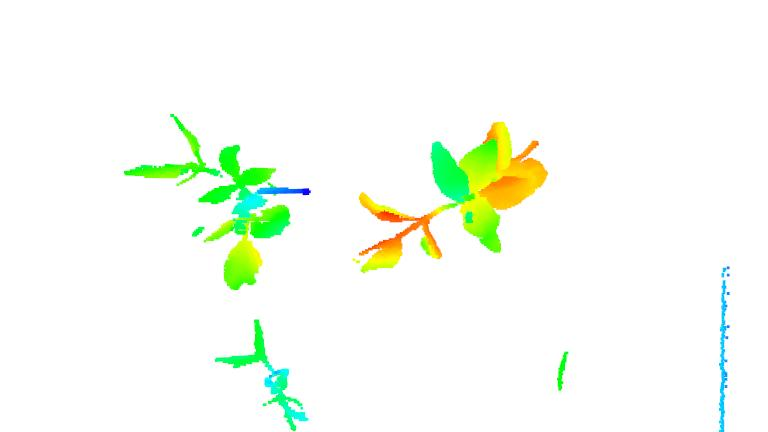mungbean: (114, 113, 313, 301), (351, 117, 549, 278), (214, 320, 308, 432)
